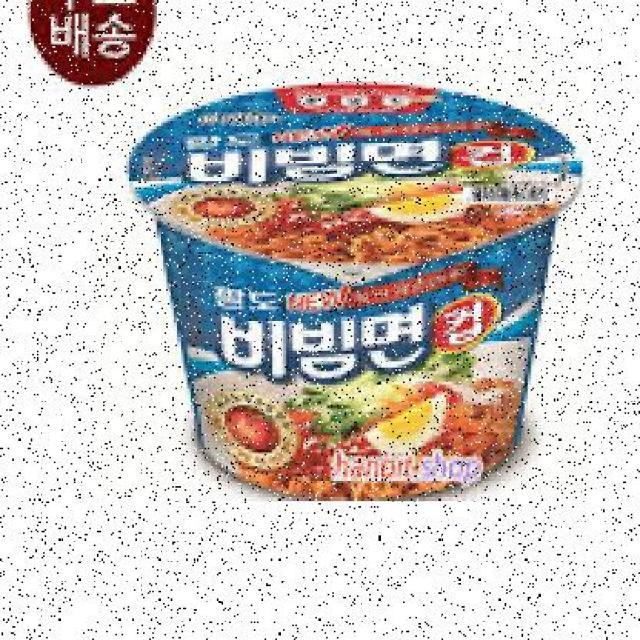Miscellaneous: (123, 80, 580, 509)
